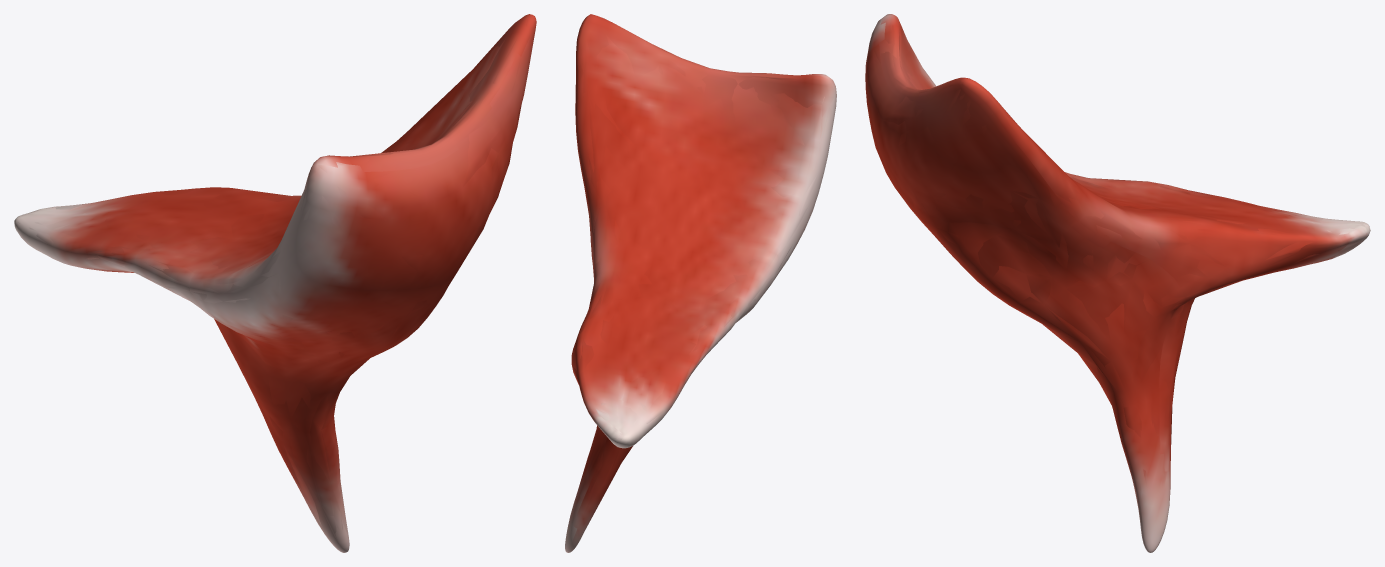
The model's file is L Pectoralis transversus.fbx.
The picture shows the model from 3 angles, left to right: view 1: azimuth 30°, elevation 25°; view 2: azimuth 150°, elevation 25°; view 3: azimuth 270°, elevation 25°; orthographic projection. The views are drawn at different scales.
Parts seen in each view (by area): view 1: L Pectoralis transversus, L Pectoralis transversus low; view 2: L Pectoralis transversus low, L Pectoralis transversus; view 3: L Pectoralis transversus, L Pectoralis transversus low.
Part boxes in pixels (left/top/right/bottom): L Pectoralis transversus: left=14, top=14, right=536, bottom=552; L Pectoralis transversus low: left=15, top=16, right=535, bottom=539; L Pectoralis transversus low: left=568, top=17, right=835, bottom=544; L Pectoralis transversus: left=565, top=14, right=836, bottom=552; L Pectoralis transversus: left=865, top=14, right=1370, bottom=552; L Pectoralis transversus low: left=867, top=17, right=1369, bottom=537.
Size of the model in its own units: 17.45 by 34.06 by 30.77.
